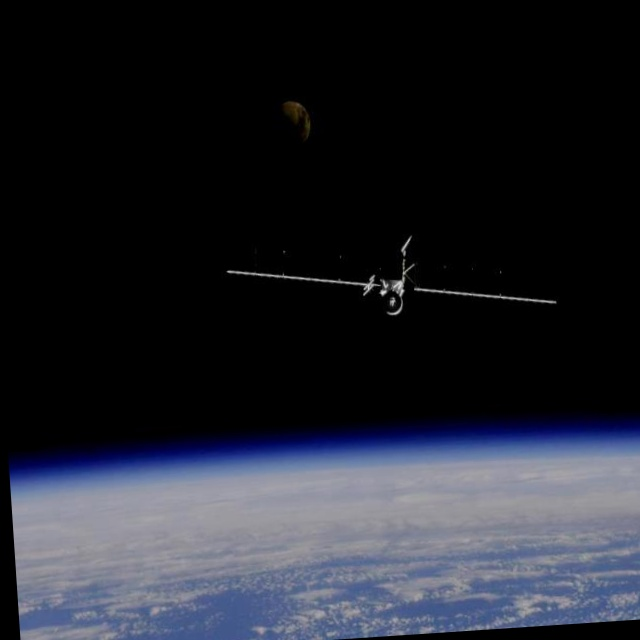medium_debris: (214, 220, 569, 353)
